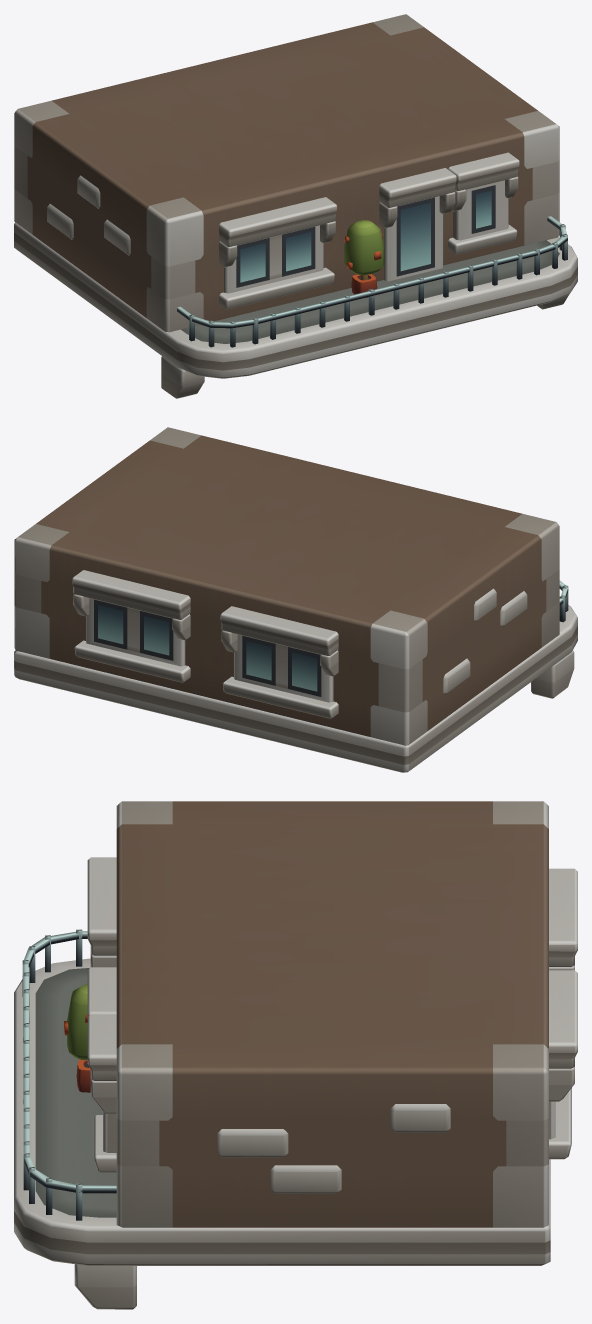
Rendered from appartment_type1_x6_balcony_beige.fbx.
3 views of the same model, one above another, from view 1: azimuth 30°, elevation 25°; view 2: azimuth 150°, elevation 25°; view 3: azimuth 270°, elevation 25° (orthographic). The views are drawn at different scales.
Parts seen in each view (by area): view 1: appartment_type1_x6_balcony_beige; view 2: appartment_type1_x6_balcony_beige; view 3: appartment_type1_x6_balcony_beige.
Boxes of the visible parts, x1,y1,x2,y2 form: appartment_type1_x6_balcony_beige: [14, 14, 577, 398]; appartment_type1_x6_balcony_beige: [14, 427, 577, 772]; appartment_type1_x6_balcony_beige: [14, 801, 577, 1309].
Bounding box in the file's own units: 1219 × 505 × 1056.
